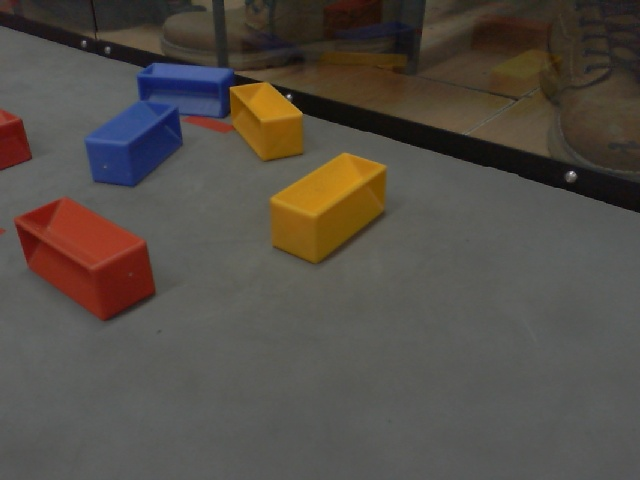BlueSample: (84, 101, 189, 189), (136, 60, 235, 122)
RedSample: (13, 189, 167, 323), (1, 106, 37, 174)
YellowSample: (270, 148, 390, 266), (227, 79, 309, 162)
